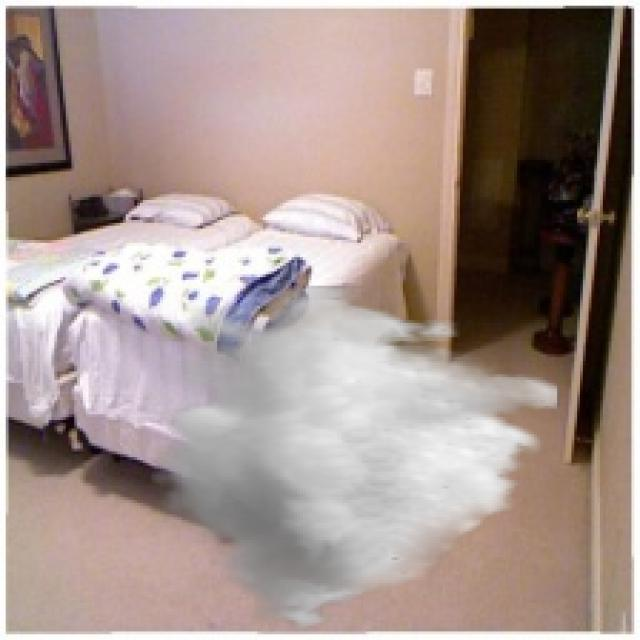Smoke: (151, 286, 560, 638)
